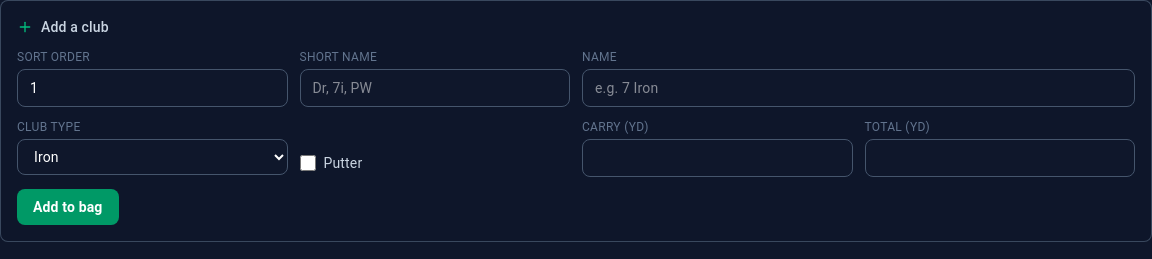
Scenario: BagAddClubForm Component › Putter / Club Type Syncing › selecting a non-putter type unchecks the putter checkbox
First select putter
Select "Putter" in the dropdown labelled "Club type" at (152, 157), box [17,139,288,175]
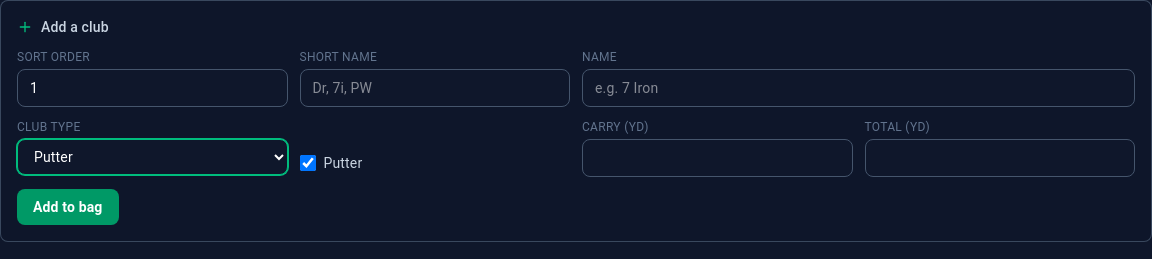
Check: the checkbox labelled "Putter" is checked, box [300,155,316,171]
Then select wood
Select "Wood" in the dropdown labelled "Club type" at (152, 157), box [17,139,288,175]
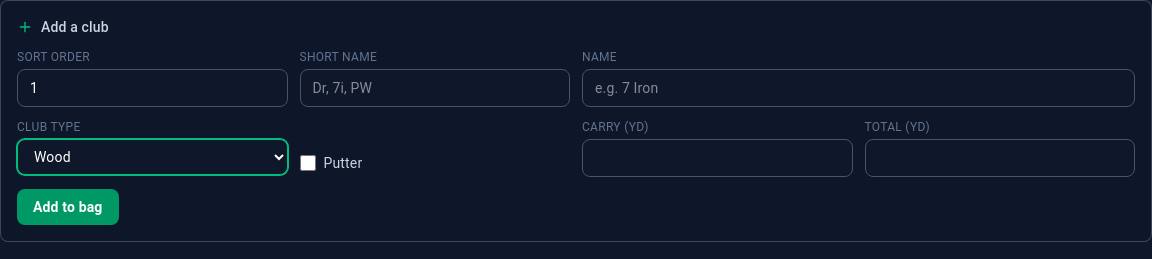
Check: the checkbox labelled "Putter" is not checked, box [300,155,316,171]
